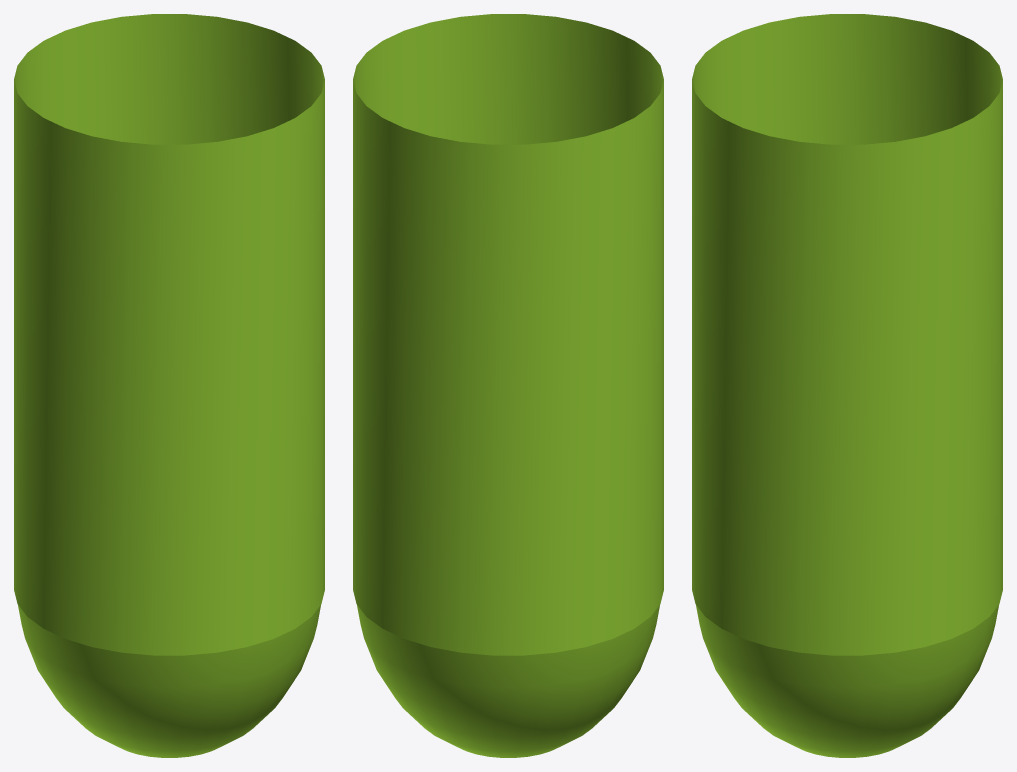
File: droid_leg.obj
3 views of the same model, side by side, from view 1: azimuth 30°, elevation 25°; view 2: azimuth 150°, elevation 25°; view 3: azimuth 270°, elevation 25° (orthographic).
Parts seen in each view (by area): view 1: leg_l; view 2: leg_l; view 3: leg_l.
Part boxes in pixels (box(x1,y1,x2,y2)): leg_l: box(14, 14, 324, 757); leg_l: box(353, 14, 663, 757); leg_l: box(692, 14, 1002, 757).
Bounding box in the file's own units: 0.2387 × 0.5683 × 0.24.
